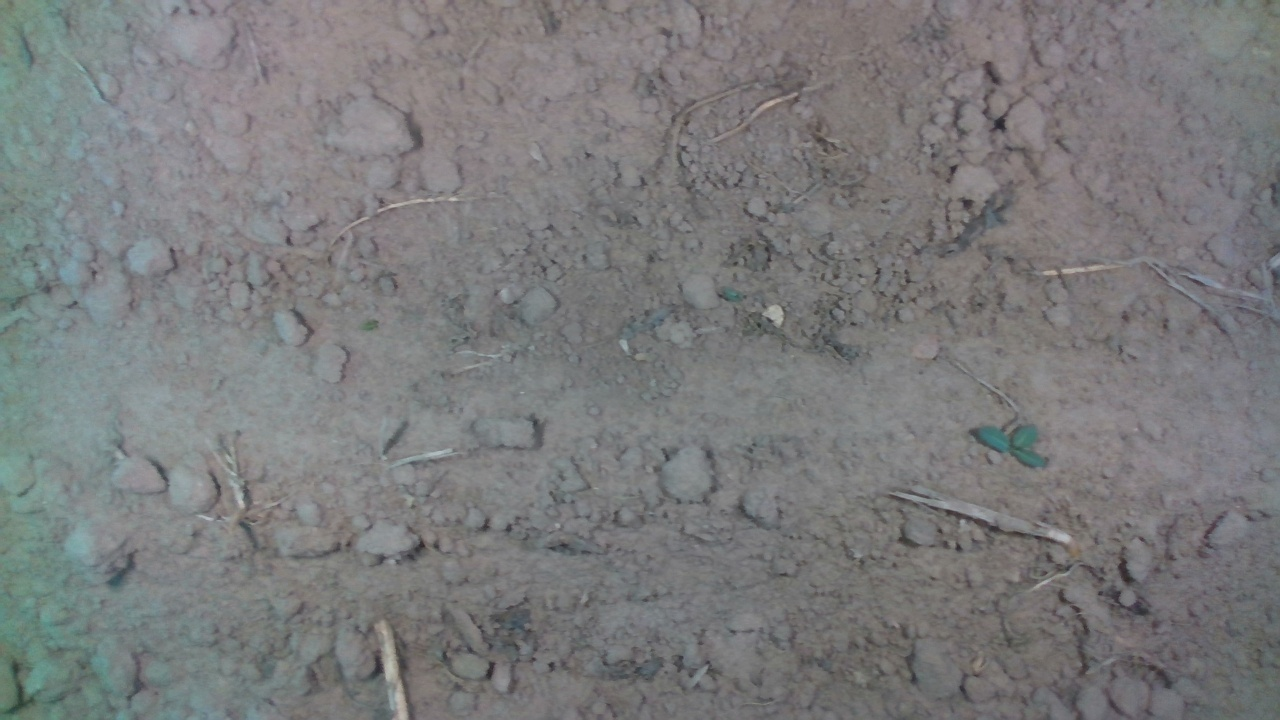weed: (975, 420, 1047, 470)
